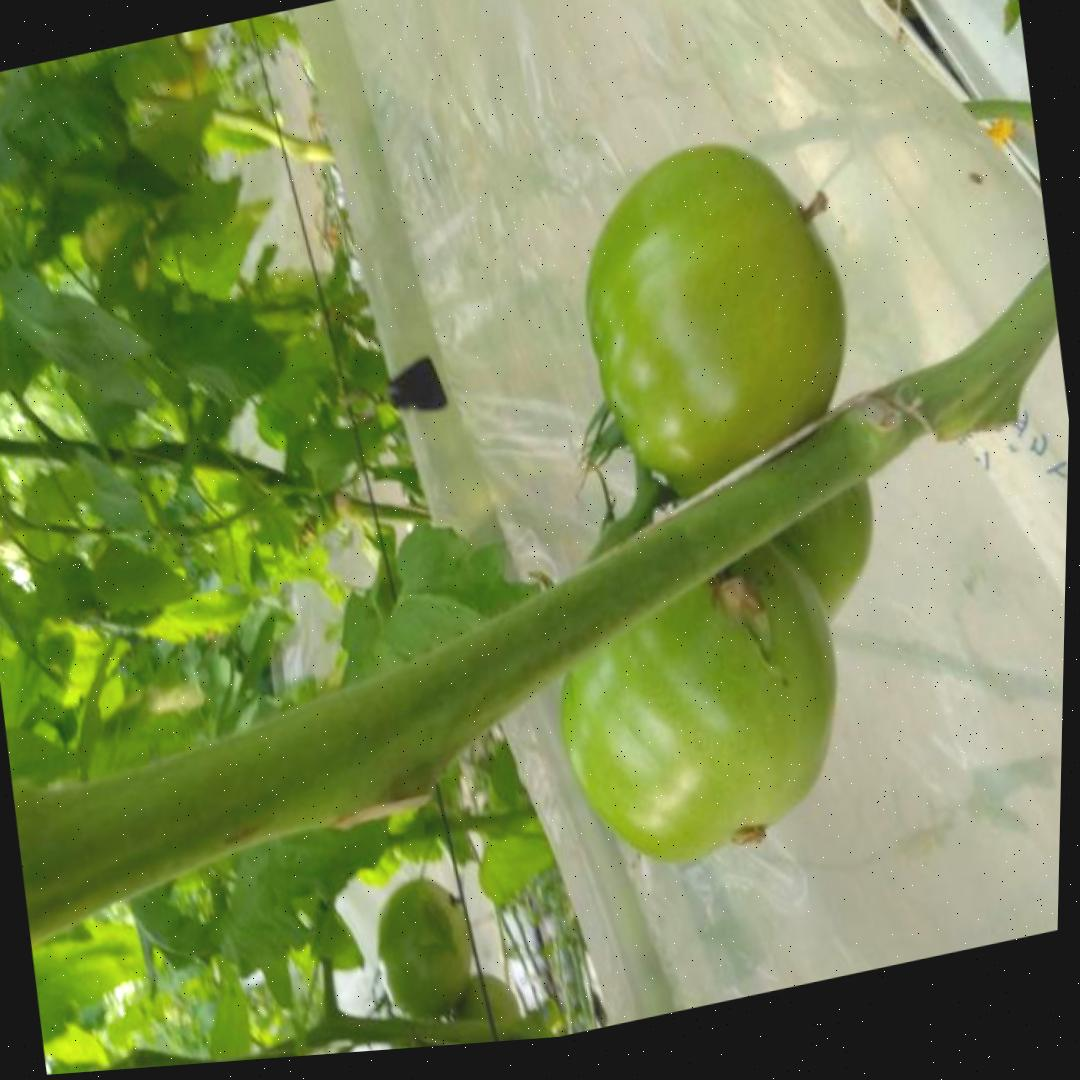mentah: (531, 486, 863, 893), (558, 112, 870, 520)
